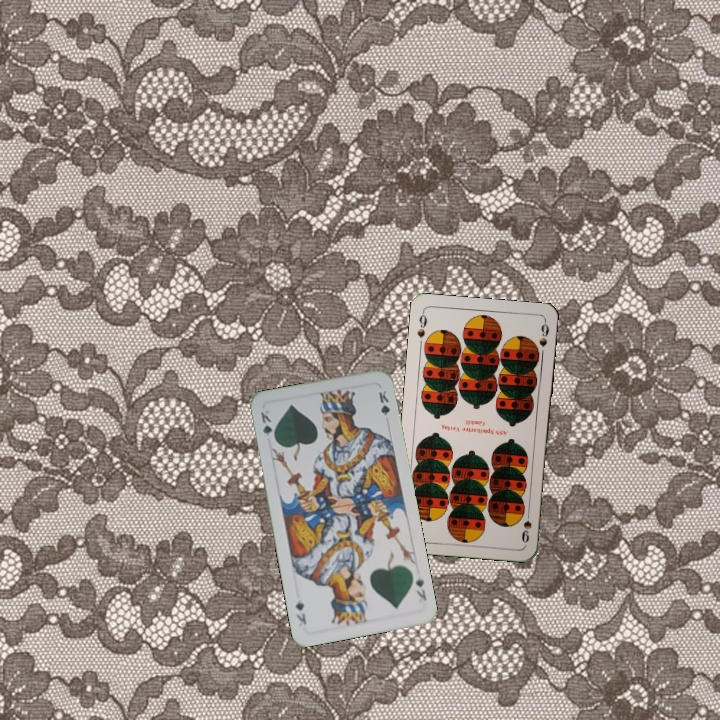GK: (256, 406, 278, 445), (412, 574, 429, 603)
S9: (518, 506, 534, 545), (413, 308, 429, 340)
